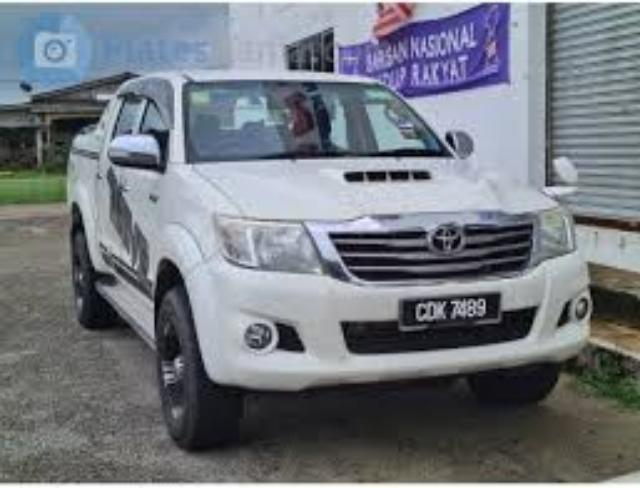License_Plate: (390, 285, 510, 341)
